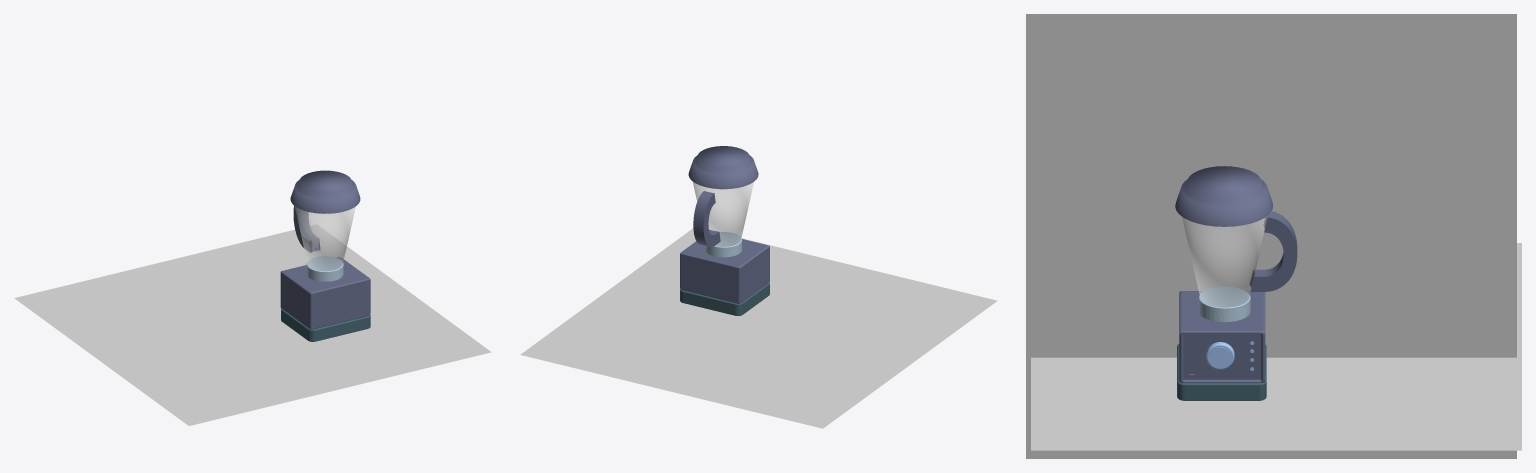
Rendered from blender.glb.
The picture shows the model from 3 angles, left to right: view 1: azimuth 30°, elevation 25°; view 2: azimuth 150°, elevation 25°; view 3: azimuth 270°, elevation 25°; orthographic projection. The views are drawn at different scales.
Visible parts, largest first — view 1: Plane, Cube, Cylinder.006, Cylinder.007, Cube.001, Cylinder.005, Cube.003; view 2: Plane, Cube, Cylinder.007, Cylinder.006, Cube.001, Cube.003, Cylinder.005; view 3: Plane.001, Plane, Cube, Cylinder.006, Cylinder.007, Cube.003, Cube.001, Cylinder.005, Cylinder.
Part boxes in pixels (box(x1,y1,x2,y2)): Plane: box(14, 224, 491, 425); Cube: box(280, 257, 370, 329); Cylinder.006: box(294, 206, 355, 270); Cylinder.007: box(290, 170, 360, 213); Cube.001: box(281, 308, 370, 341); Cylinder.005: box(306, 256, 343, 281); Cube.003: box(293, 206, 320, 252); Plane: box(520, 228, 997, 428); Cube: box(680, 239, 769, 303); Cylinder.007: box(688, 146, 758, 189); Cylinder.006: box(692, 181, 753, 246); Cube.001: box(680, 282, 769, 315); Cube.003: box(693, 191, 720, 246); Cylinder.005: box(705, 232, 742, 257); Plane.001: box(1026, 14, 1516, 458); Plane: box(1031, 243, 1521, 450); Cube: box(1179, 291, 1265, 382); Cylinder.006: box(1182, 203, 1273, 307); Cylinder.007: box(1175, 166, 1273, 226); Cube.003: box(1249, 211, 1297, 291); Cube.001: box(1177, 344, 1266, 400); Cylinder.005: box(1198, 286, 1250, 322); Cylinder: box(1206, 342, 1234, 369).
Bounding box in the file's own units: 10.37 × 10.37 × 10.48.
